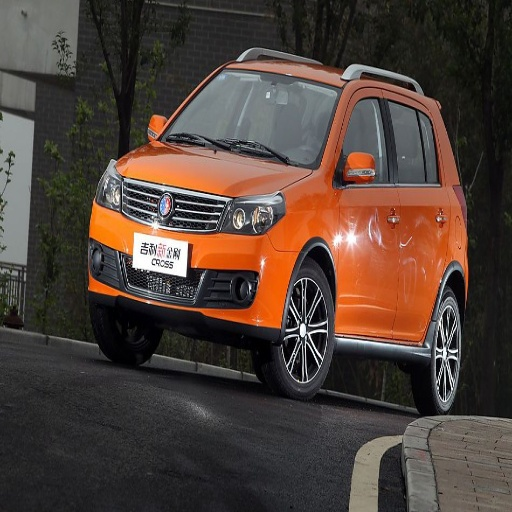front_bumper: (89, 177, 301, 328)
front_glass: (154, 68, 342, 167)
front_left_door: (333, 87, 399, 337)
